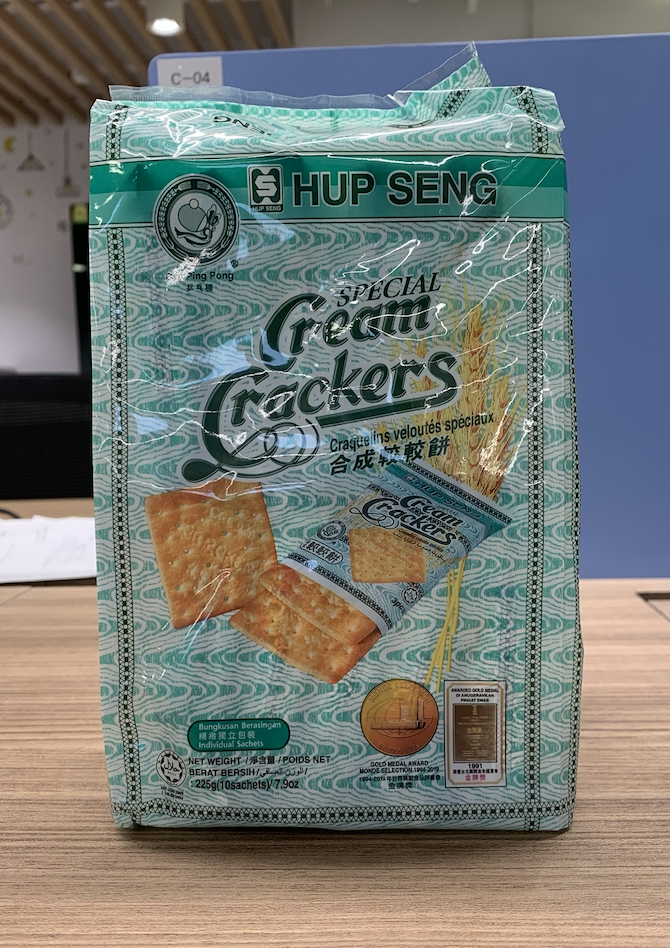halal: (159, 754, 184, 783)
